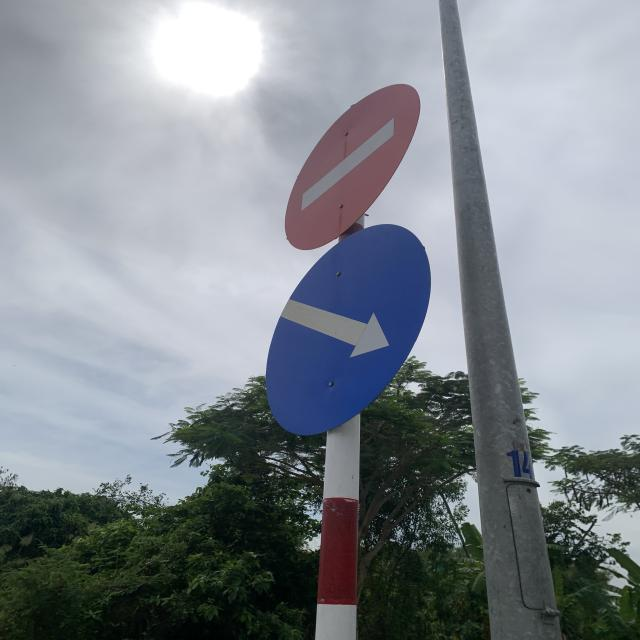Cam_Di_Nguoc_Chieu: (285, 84, 424, 251)
Chi_Huong_Di_Phai: (265, 224, 430, 436)
